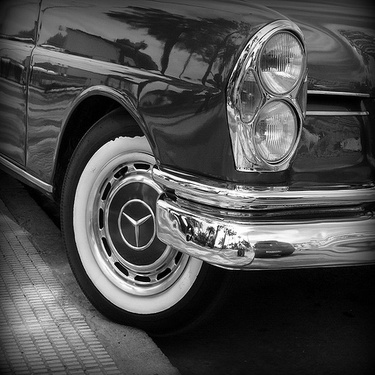car: (1, 4, 369, 300)
